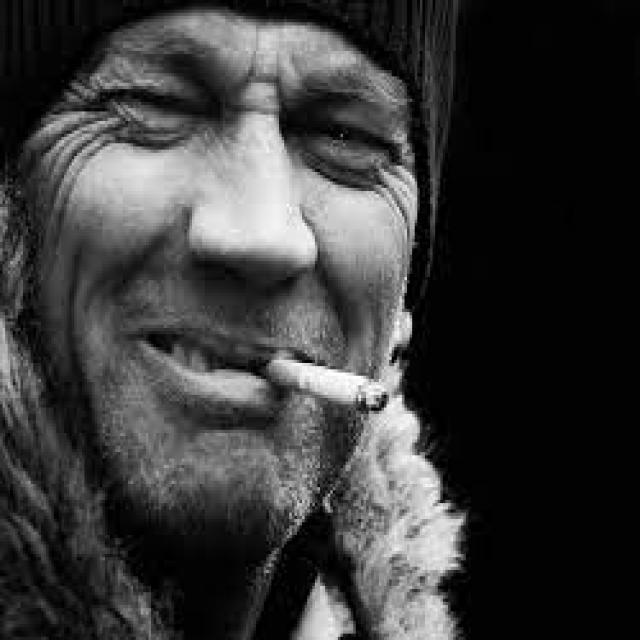smoking: (228, 355, 392, 410)
